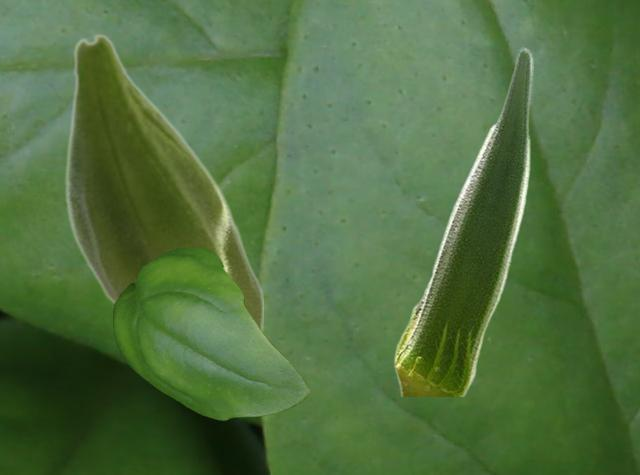okra: (64, 33, 262, 330), (393, 46, 532, 395)
